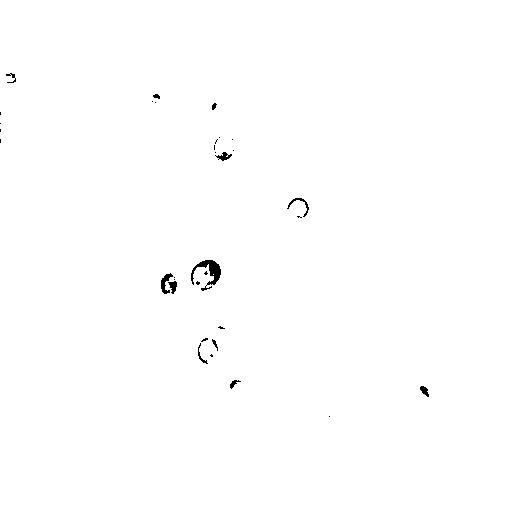micro-algae: (410, 0, 469, 47), (219, 367, 255, 410), (189, 256, 224, 293), (158, 263, 182, 299), (211, 131, 237, 162), (194, 336, 221, 365), (284, 196, 312, 223), (258, 154, 283, 182), (1, 114, 22, 140), (416, 383, 435, 402), (1, 70, 19, 86), (208, 99, 220, 113)
